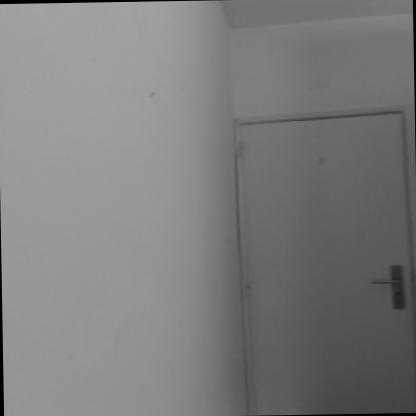closed: (203, 90, 416, 405)
